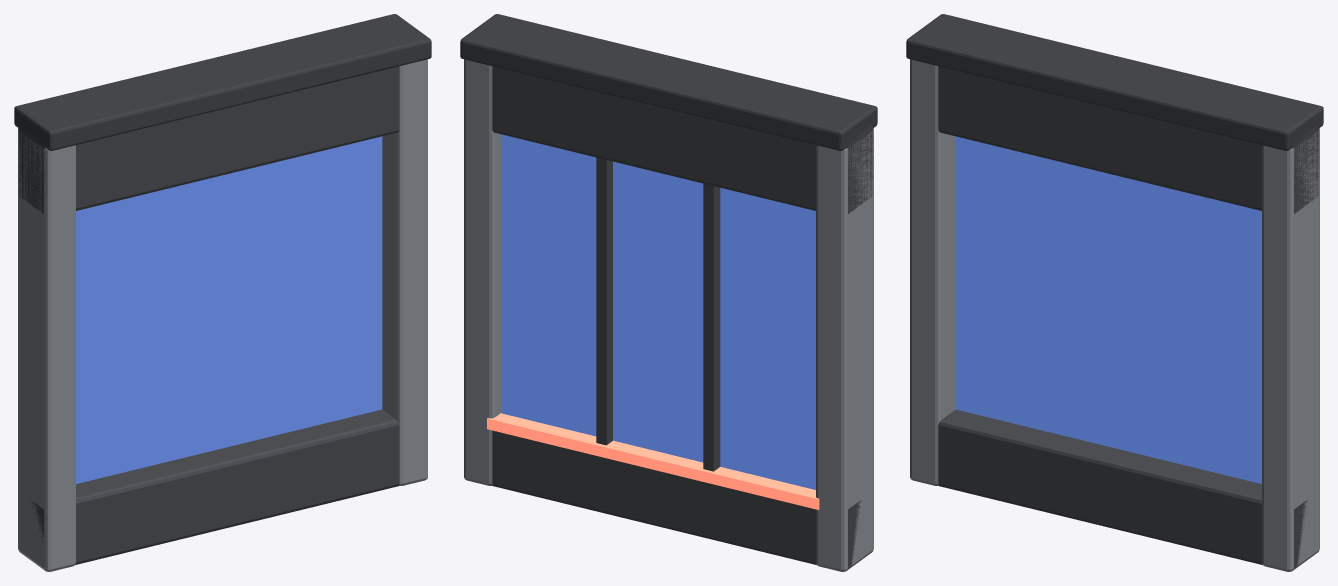
Rendered from hull_window.glb.
3 views of the same model, side by side, from view 1: azimuth 30°, elevation 25°; view 2: azimuth 150°, elevation 25°; view 3: azimuth 330°, elevation 25° (orthographic).
Visible parts, largest first — view 1: hull_window; view 2: hull_window; view 3: hull_window.
Part boxes in pixels (<box>): hull_window: <box>14,14,431,571</box>; hull_window: <box>460,14,877,571</box>; hull_window: <box>906,14,1323,571</box>.
Size of the model in its own units: 3 by 3.33 by 0.5.
